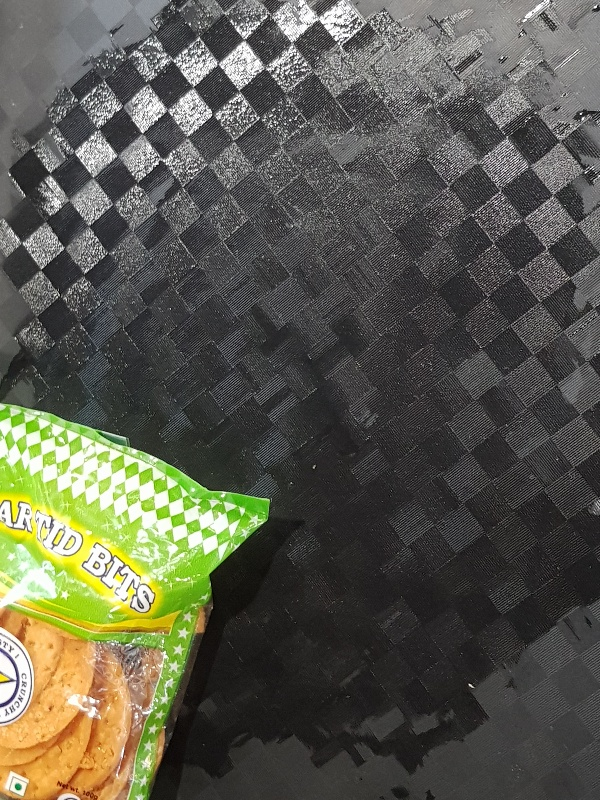Star Tidbits 'O' Ring: (1, 399, 272, 800)
